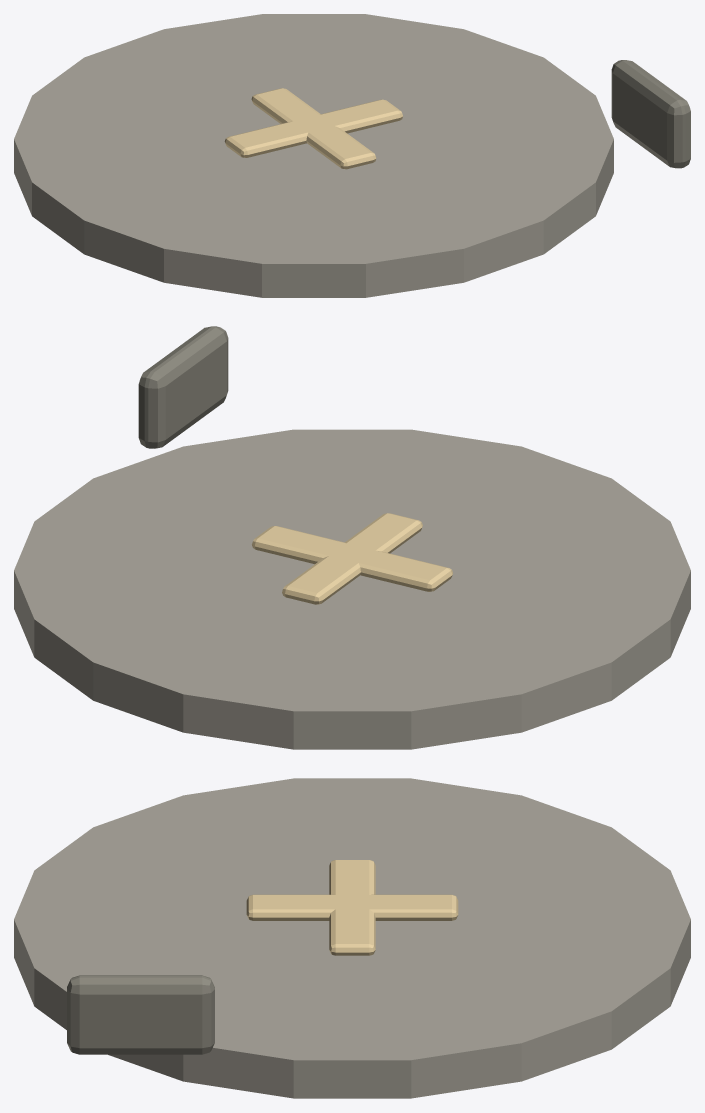
The model's file is com_service_depot.glb.
3 views of the same model, one above another, from view 1: azimuth 30°, elevation 25°; view 2: azimuth 150°, elevation 25°; view 3: azimuth 270°, elevation 25° (orthographic). The views are drawn at different scales.
Parts seen in each view (by area): view 1: com_service_depot; view 2: com_service_depot; view 3: com_service_depot.
Boxes of the visible parts, <box> form: com_service_depot: <box>14,14,690,297</box>; com_service_depot: <box>14,326,690,749</box>; com_service_depot: <box>14,778,690,1098</box>.
Bounding box in the file's own units: 1.58 × 0.36 × 1.6.
